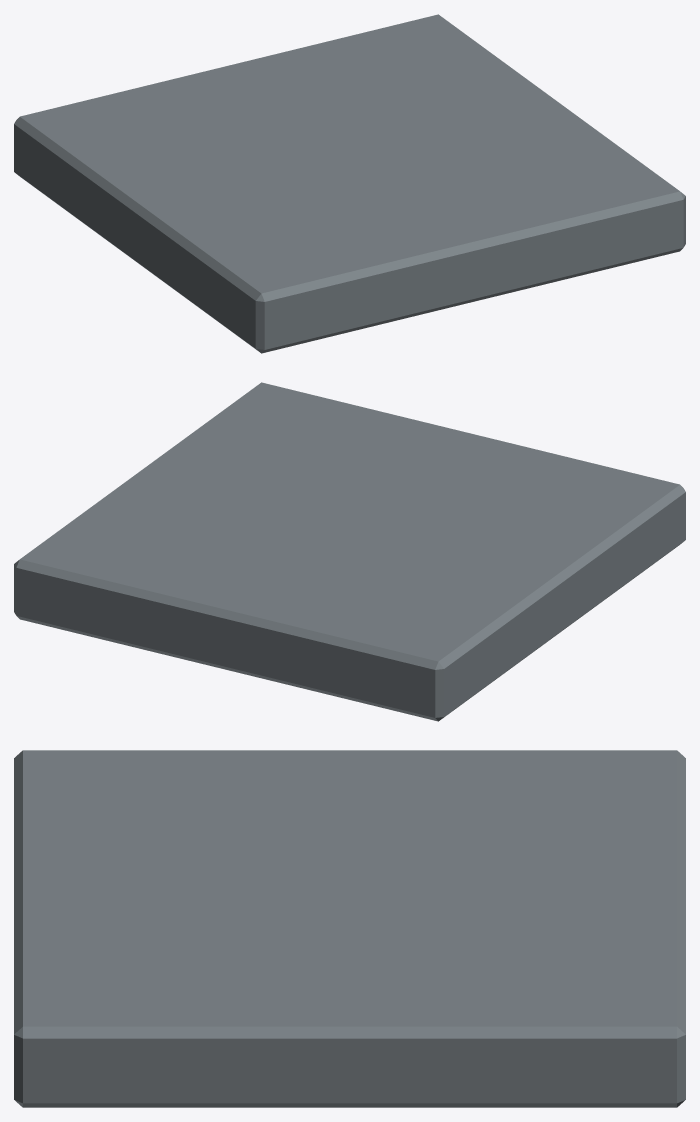
Rendered from CeilingLight.fbx.
3 renders of one model, top to bottom at view 1: azimuth 30°, elevation 25°; view 2: azimuth 150°, elevation 25°; view 3: azimuth 270°, elevation 25°, orthographic. The views are drawn at different scales.
Parts seen in each view (by area): view 1: CeilingLight; view 2: CeilingLight; view 3: CeilingLight.
Part boxes in pixels (x1,y1,x2,y2): CeilingLight: (14,14,685,353); CeilingLight: (14,382,685,721); CeilingLight: (14,750,685,1107).
Size of the model in its own units: 60 by 8.1 by 60.
Materials: 1 (1 with a texture image).
